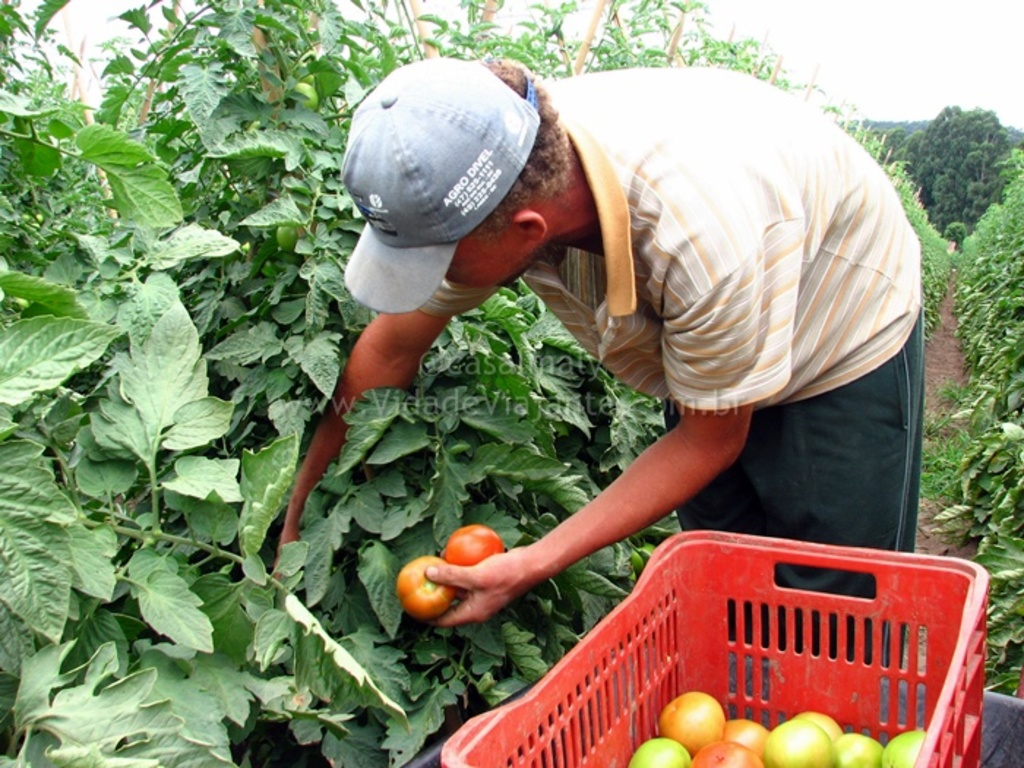Tomato: (399, 556, 457, 621), (445, 517, 501, 564)
